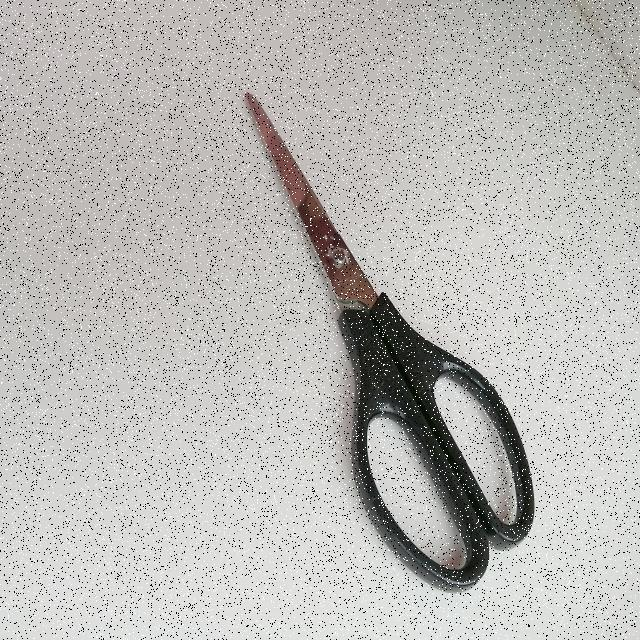scissors: (236, 82, 540, 606)
